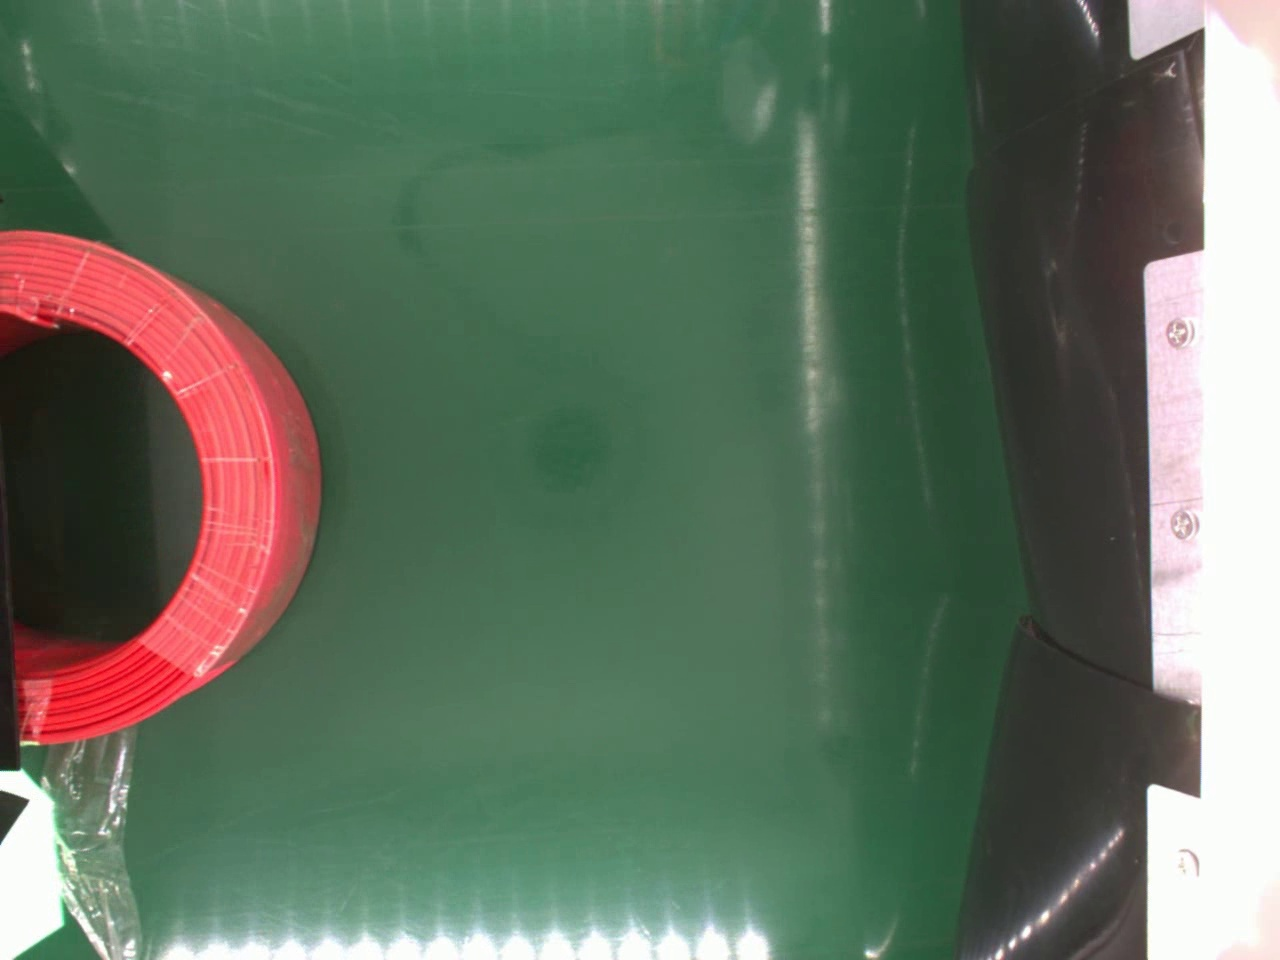red: (0, 226, 325, 748)
